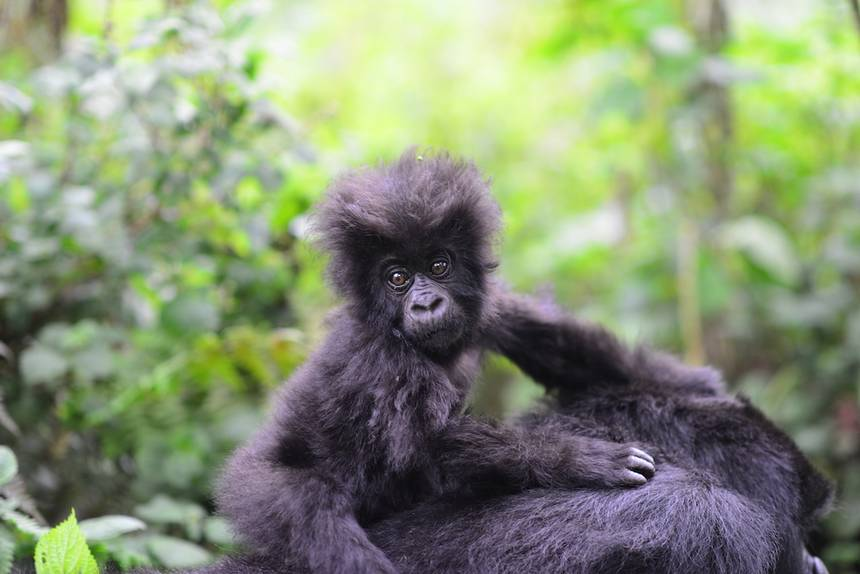Goriila: (222, 116, 623, 574)
